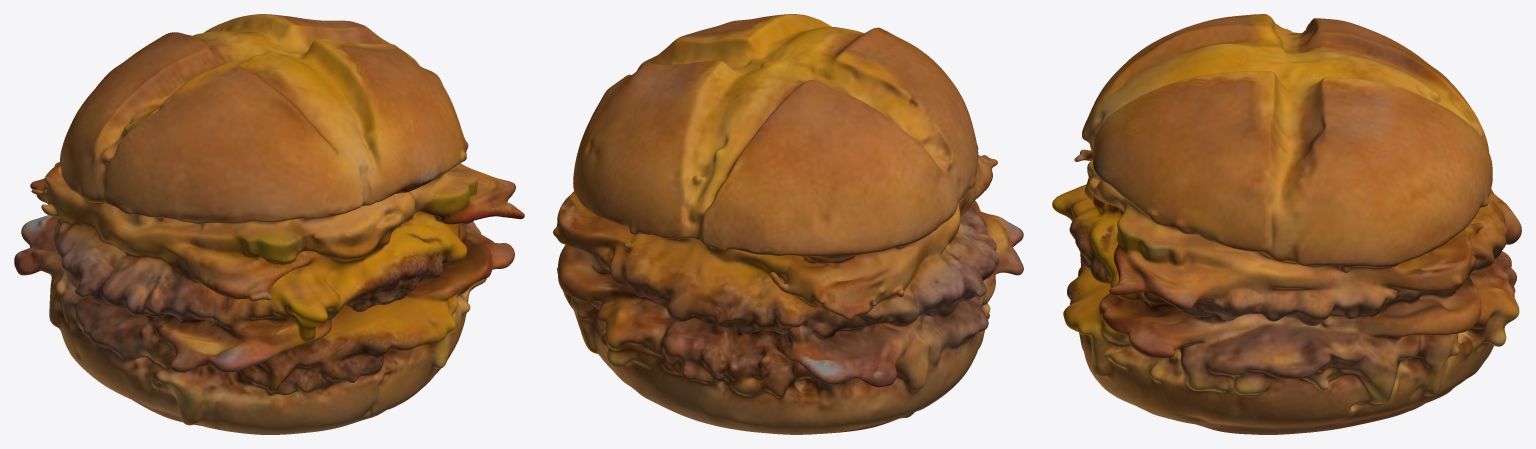
The model's file is burger_opt.glb.
3 renders of one model, left to right at view 1: azimuth 30°, elevation 25°; view 2: azimuth 150°, elevation 25°; view 3: azimuth 270°, elevation 25°, orthographic. The views are drawn at different scales.
Visible parts, largest first — view 1: tripo_node_cfdc0655-57dd-4e37-a49a-9898d826ee9d; view 2: tripo_node_cfdc0655-57dd-4e37-a49a-9898d826ee9d; view 3: tripo_node_cfdc0655-57dd-4e37-a49a-9898d826ee9d.
Part boxes in pixels (<box>): tripo_node_cfdc0655-57dd-4e37-a49a-9898d826ee9d: <box>14,14,524,434</box>; tripo_node_cfdc0655-57dd-4e37-a49a-9898d826ee9d: <box>553,14,1023,434</box>; tripo_node_cfdc0655-57dd-4e37-a49a-9898d826ee9d: <box>1052,14,1521,434</box>.
Size of the model in its own units: 1 by 0.7933 by 0.9825.
1 material, 1 textured.
